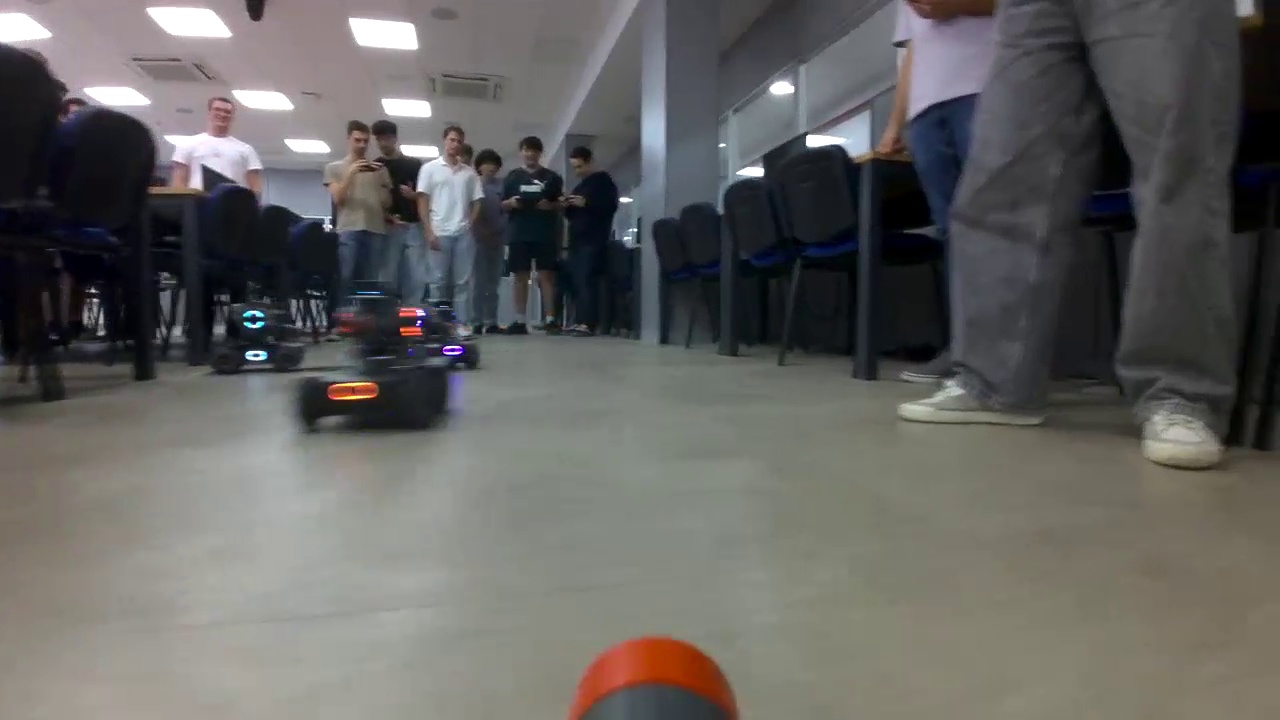robot: (298, 280, 447, 431), (212, 297, 306, 373), (418, 293, 483, 372)
